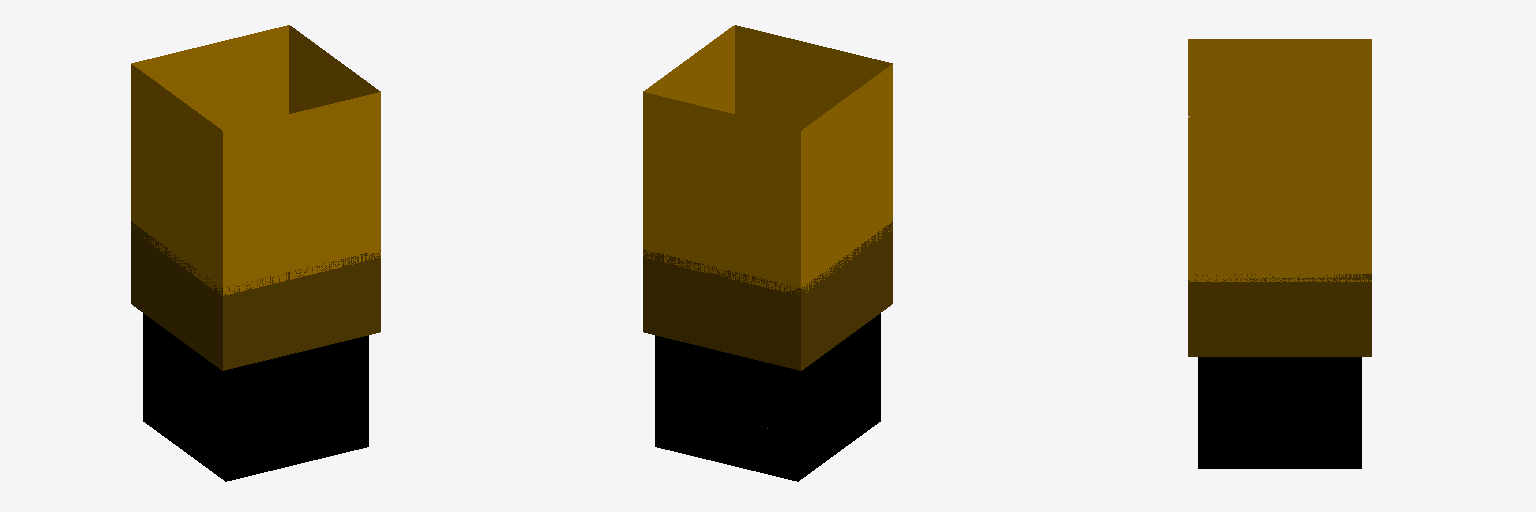
The picture shows the model from 3 angles: view 1: azimuth 30°, elevation 25°; view 2: azimuth 150°, elevation 25°; view 3: azimuth 270°, elevation 25°; orthographic projection.
Visible parts, largest first — view 1: 平面.003; view 2: 平面.003; view 3: 平面.003.
Part boxes in pixels (bbox=[...]): 平面.003: bbox=[131, 25, 380, 481]; 平面.003: bbox=[643, 25, 892, 481]; 平面.003: bbox=[1188, 39, 1371, 468].
Bounding box in the file's own units: 20 × 43 × 20.
Materials: 1 (1 with a texture image).